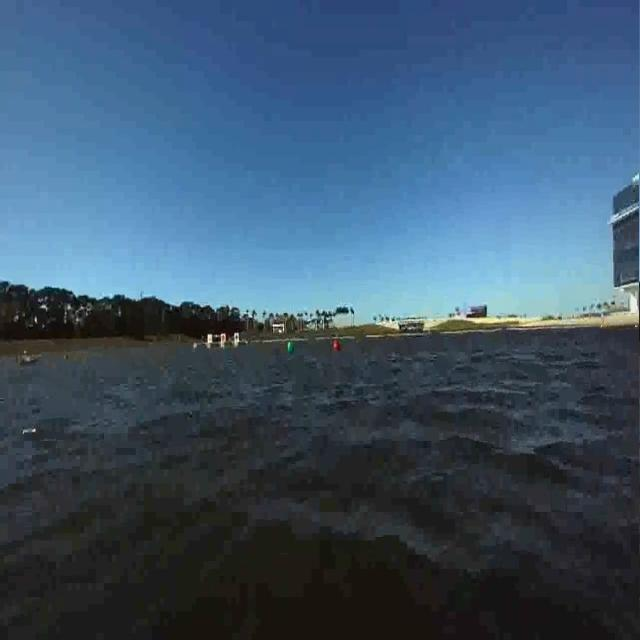green-buoy: (287, 342, 294, 355)
